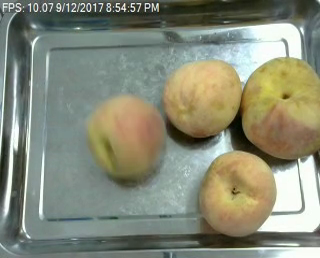Peach: (239, 54, 319, 158), (83, 95, 166, 184), (197, 150, 277, 236), (162, 59, 241, 139)
